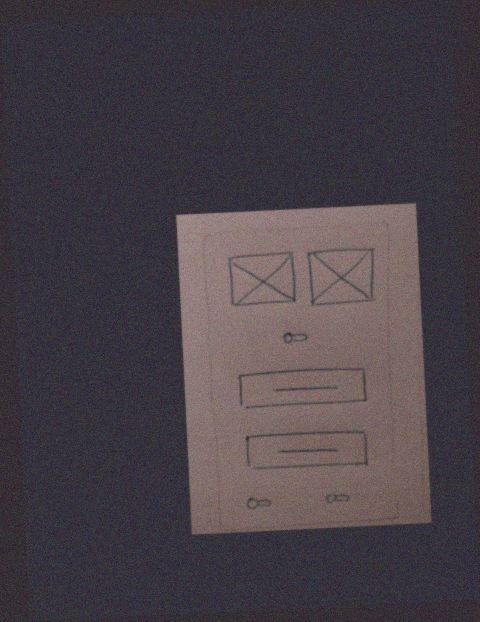button: (232, 359, 375, 417), (238, 424, 381, 478)
image: (223, 249, 303, 309), (304, 246, 381, 308)
switch: (276, 325, 316, 352), (240, 491, 281, 514), (317, 487, 358, 510)
